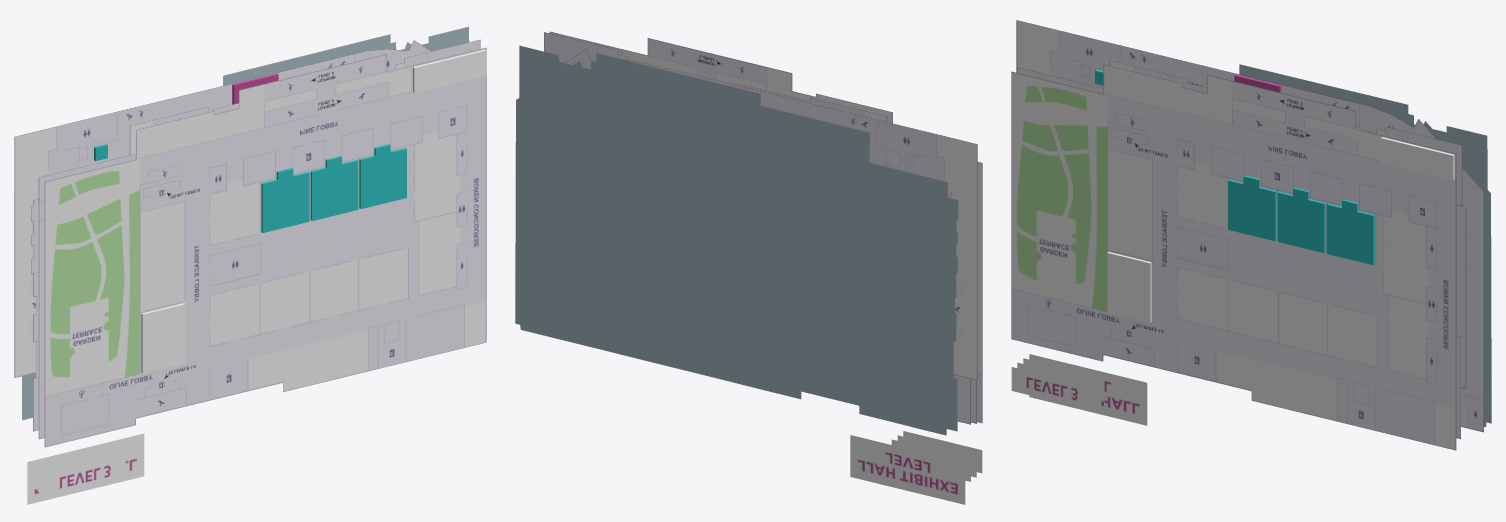
3 renders of one model, left to right at view 1: azimuth 30°, elevation 25°; view 2: azimuth 150°, elevation 25°; view 3: azimuth 330°, elevation 25°, orthographic. The views are drawn at different scales.
Visible parts, largest first — view 1: 3 3_0, EXHIBITHALL EXHIBITHALL_0, 2 2_0, BG BG_0, 3 b-1, 3 bVisionary Room, 3 bThe Board Room, 3 bExperiences Room, 1 1_0, 3 b-2; view 2: BG BG_0, EXHIBITHALL EXHIBITHALL_0, 3 3_0, 2 2_0, 1 1_0; view 3: 3 3_0, EXHIBITHALL EXHIBITHALL_0, BG BG_0, 2 2_0, 3 b-1, 3 bVisionary Room, 3 bExperiences Room, 3 bThe Board Room, 1 1_0, 3 b-2.
Part boxes in pixels (x1,y1,x2,y2): 3 3_0: (44, 47, 486, 498); EXHIBITHALL EXHIBITHALL_0: (14, 40, 431, 504); 2 2_0: (38, 39, 480, 494); BG BG_0: (22, 26, 469, 420); 3 b-1: (141, 303, 185, 373); 3 bVisionary Room: (261, 168, 309, 232); 3 bThe Board Room: (310, 156, 358, 220); 3 bExperiences Room: (359, 144, 406, 208); 1 1_0: (31, 131, 130, 489); 3 b-2: (413, 49, 486, 92); BG BG_0: (515, 45, 958, 435); EXHIBITHALL EXHIBITHALL_0: (565, 49, 977, 504); 3 3_0: (549, 31, 982, 473); 2 2_0: (544, 32, 976, 477); 1 1_0: (891, 375, 970, 481); 3 3_0: (1011, 64, 1456, 450); EXHIBITHALL EXHIBITHALL_0: (1016, 20, 1483, 432); BG BG_0: (1239, 64, 1491, 426); 2 2_0: (1017, 60, 1462, 438); 3 b-1: (1107, 252, 1151, 322); 3 bVisionary Room: (1228, 175, 1276, 240); 3 bExperiences Room: (1326, 199, 1374, 265); 3 bThe Board Room: (1277, 187, 1325, 252); 1 1_0: (1023, 126, 1466, 401); 3 b-2: (1380, 137, 1454, 180).
Size of the model in its own units: 18.26 by 14.25 by 1.74.
